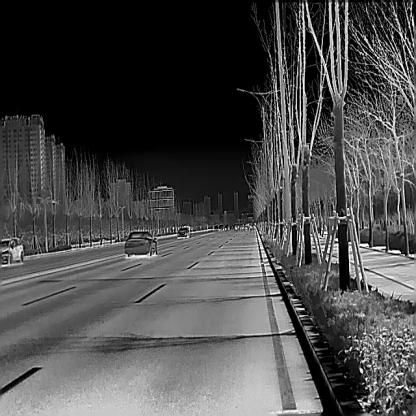car: (124, 231, 157, 256), (0, 236, 23, 264), (177, 227, 189, 239)
